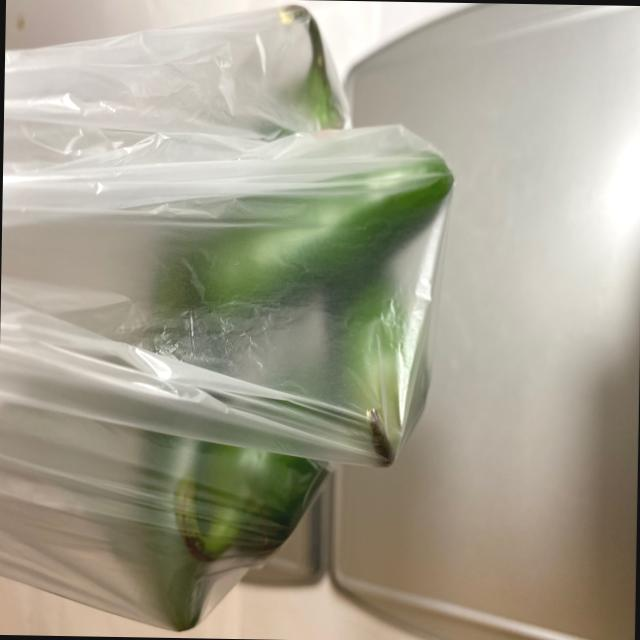chilli: (118, 0, 463, 630)
